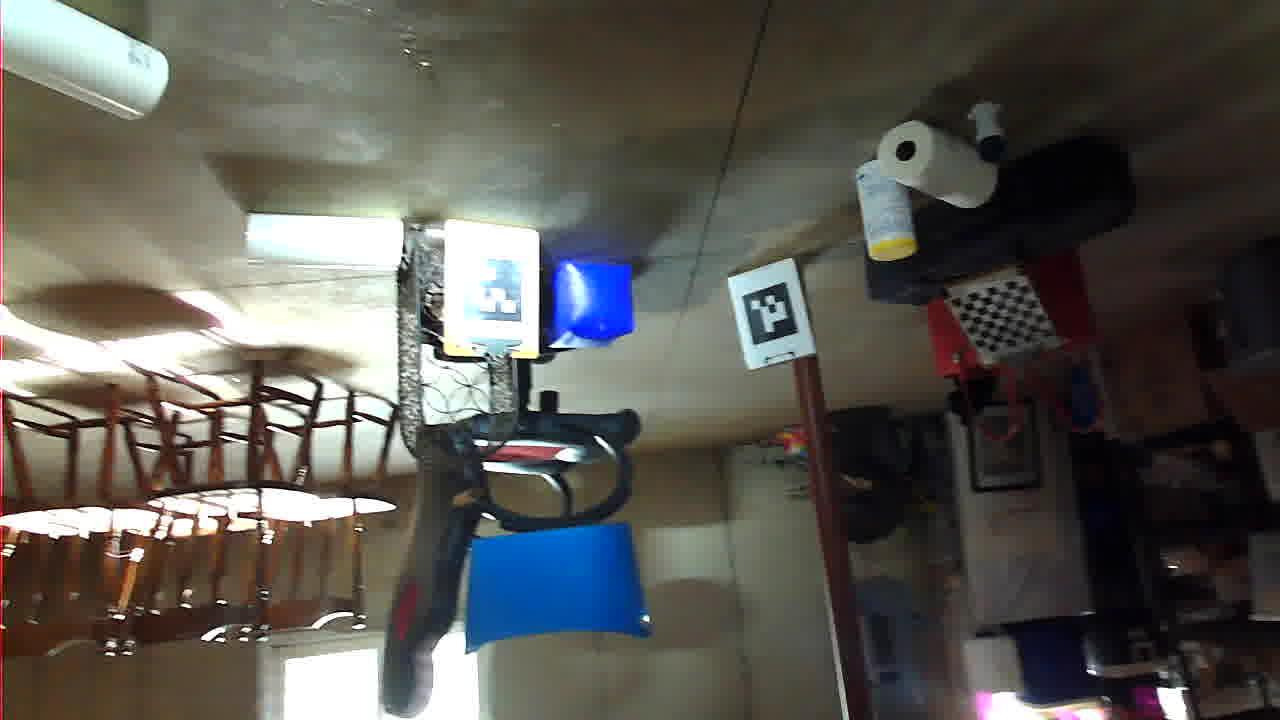coral: (1113, 600, 1280, 720), (877, 456, 1032, 505)
